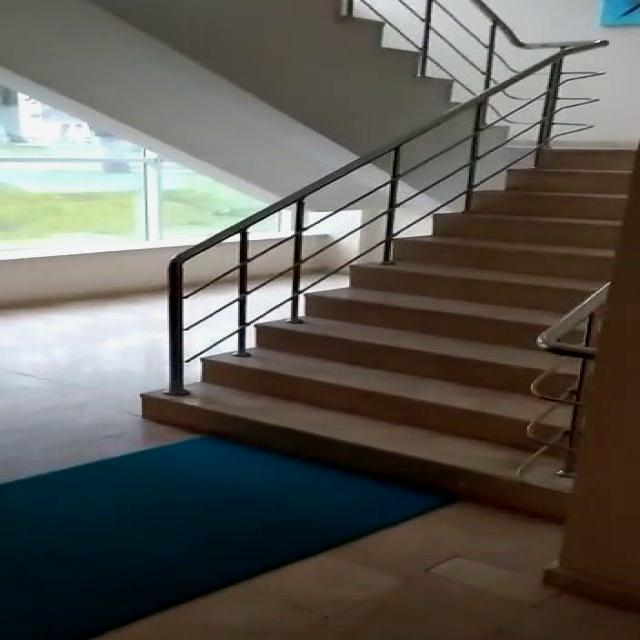stair: (126, 100, 638, 540)
